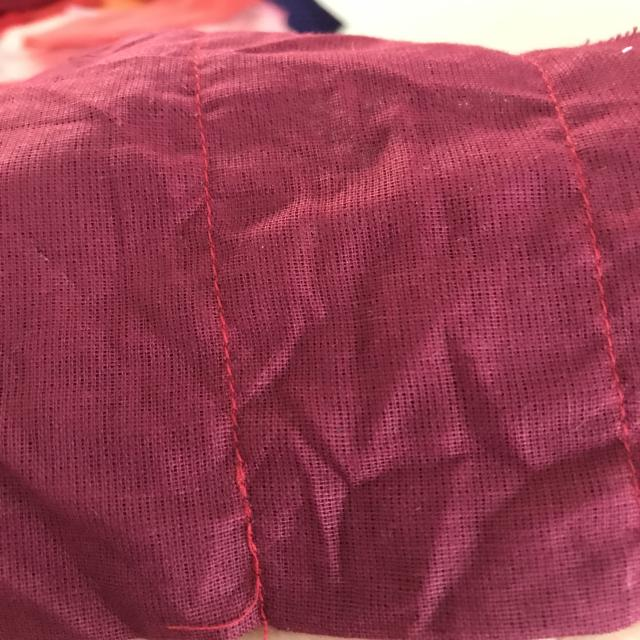good: (193, 256, 252, 344)
